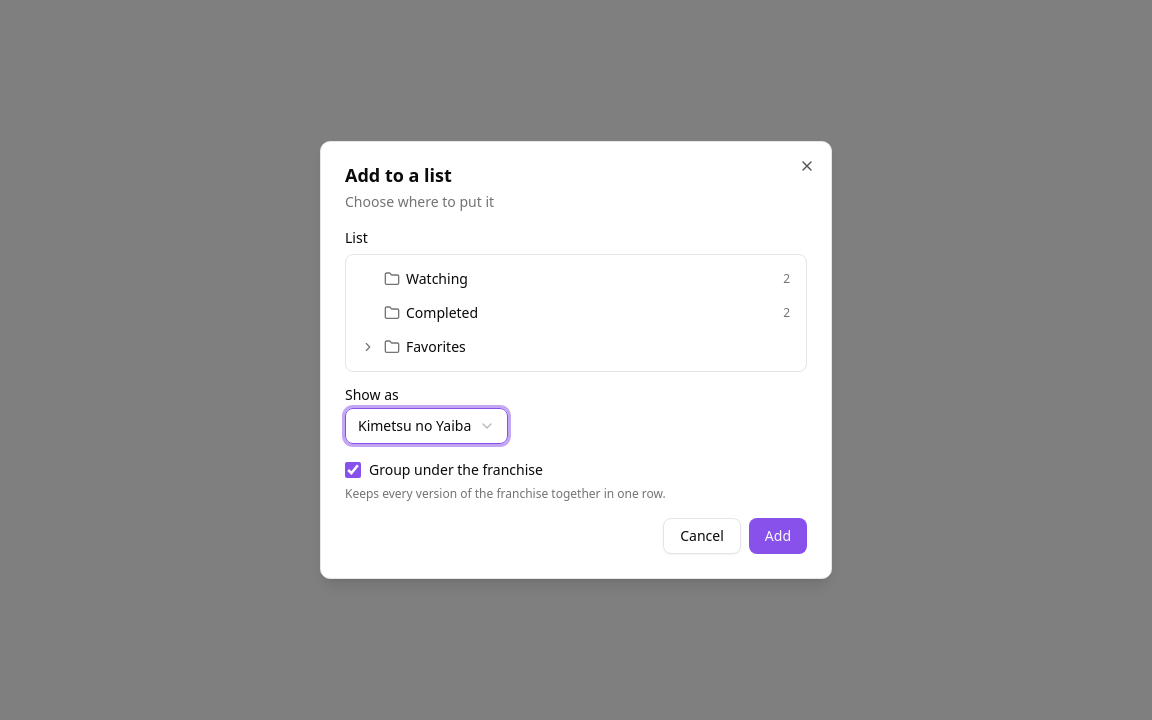
LinkWizard › si el payload del 409 no valida, degrada: conflicto sin lista, sin sincronizar
Click the list item "Completed" at (442, 312), box [384, 303, 790, 322]
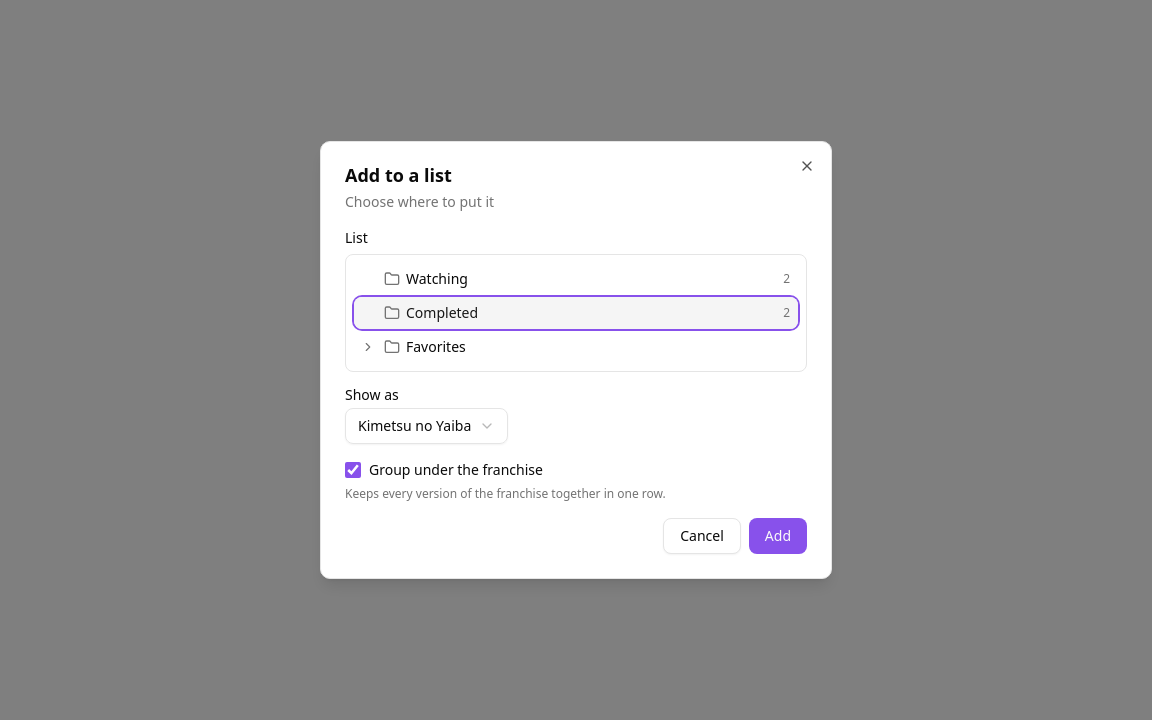
Click the button "Add" at (778, 536), box [749, 518, 807, 554]
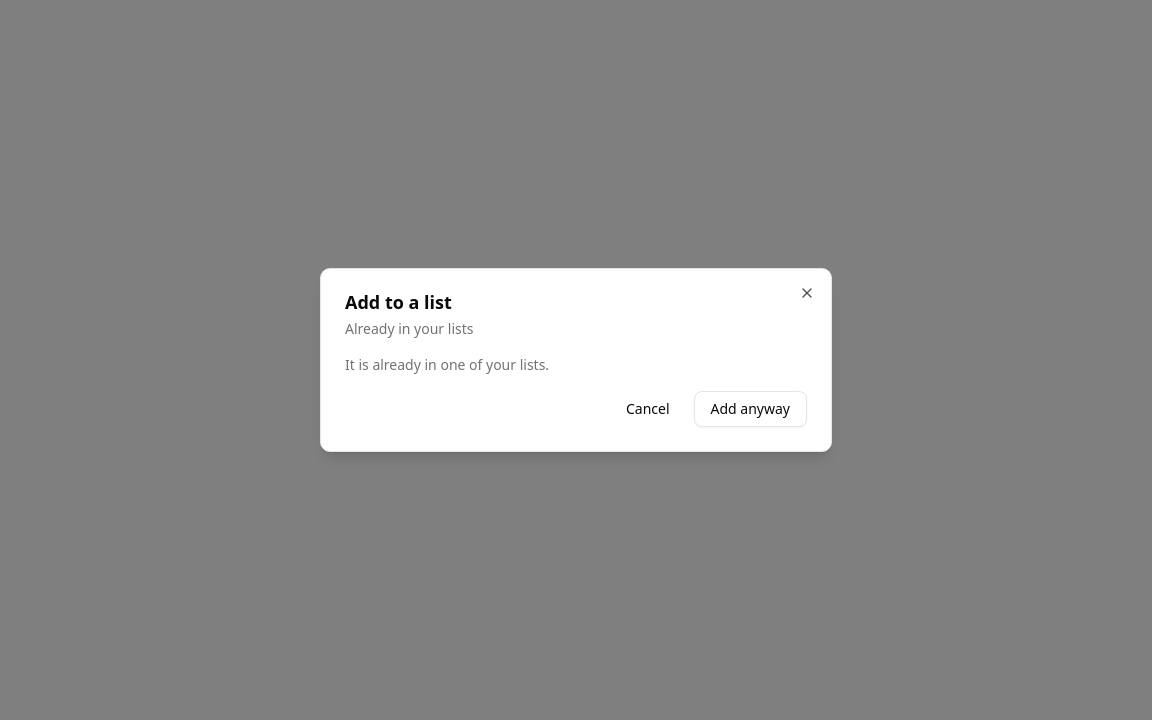
Now the text "It is already in one of your lists." is shown, box [345, 355, 549, 374]
Now the button "Add anyway" is shown, box [694, 391, 807, 427]
